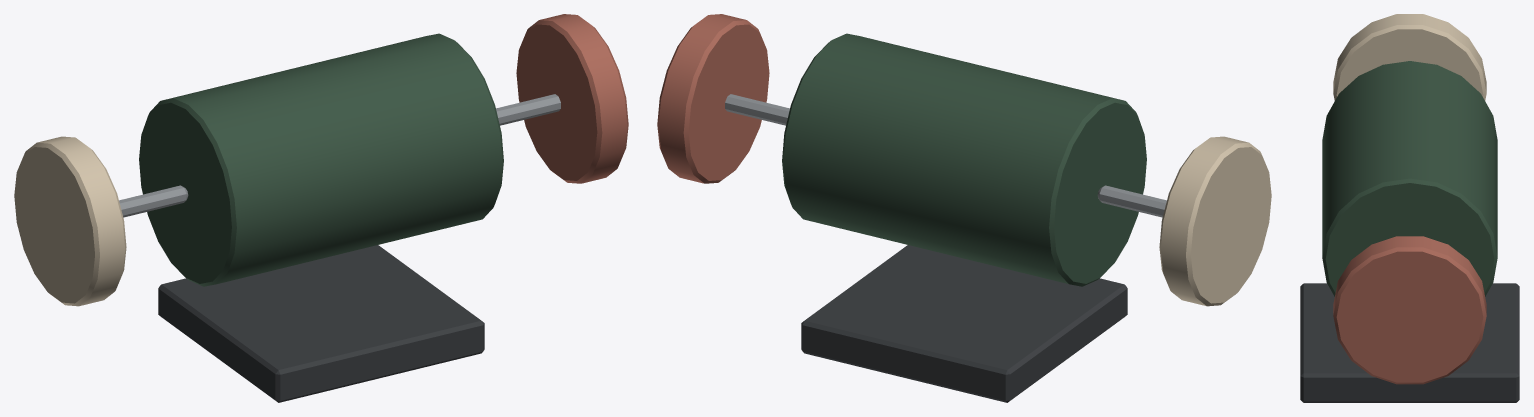
The model's file is prop_polishing_machine.glb.
The picture shows the model from 3 angles, left to right: view 1: azimuth 30°, elevation 25°; view 2: azimuth 150°, elevation 25°; view 3: azimuth 270°, elevation 25°; orthographic projection. The views are drawn at different scales.
Visible parts, largest first — view 1: Polisher; view 2: Polisher; view 3: Polisher.
Part boxes in pixels (left/top/right/bottom): Polisher: left=14, top=14, right=628, bottom=402; Polisher: left=657, top=14, right=1271, bottom=402; Polisher: left=1300, top=14, right=1519, bottom=402.
Bounding box in the file's own units: 0.51 × 0.24 × 0.2.
